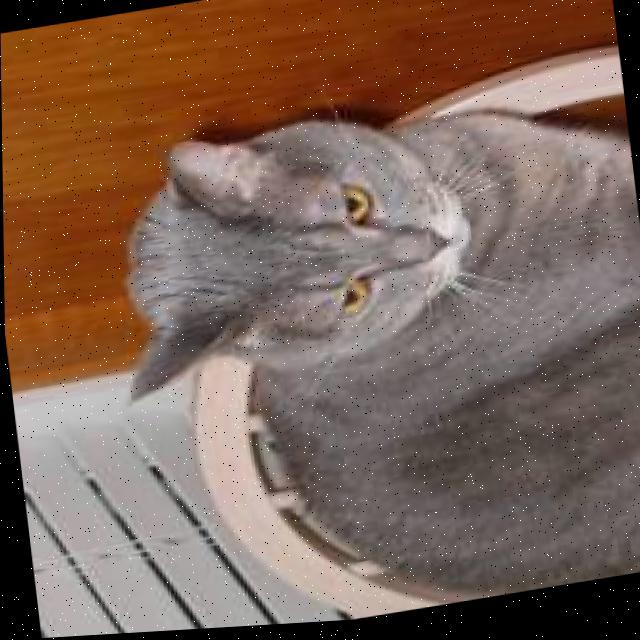British Shorthair: (77, 67, 640, 636)
